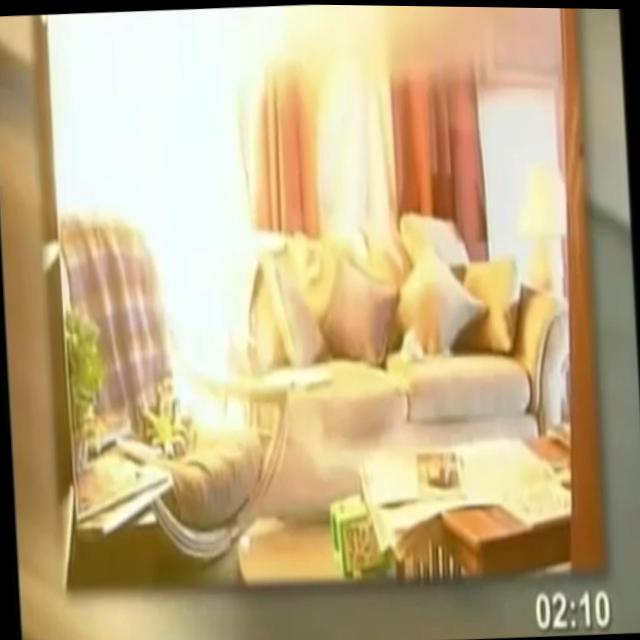fire: (128, 9, 262, 431)
